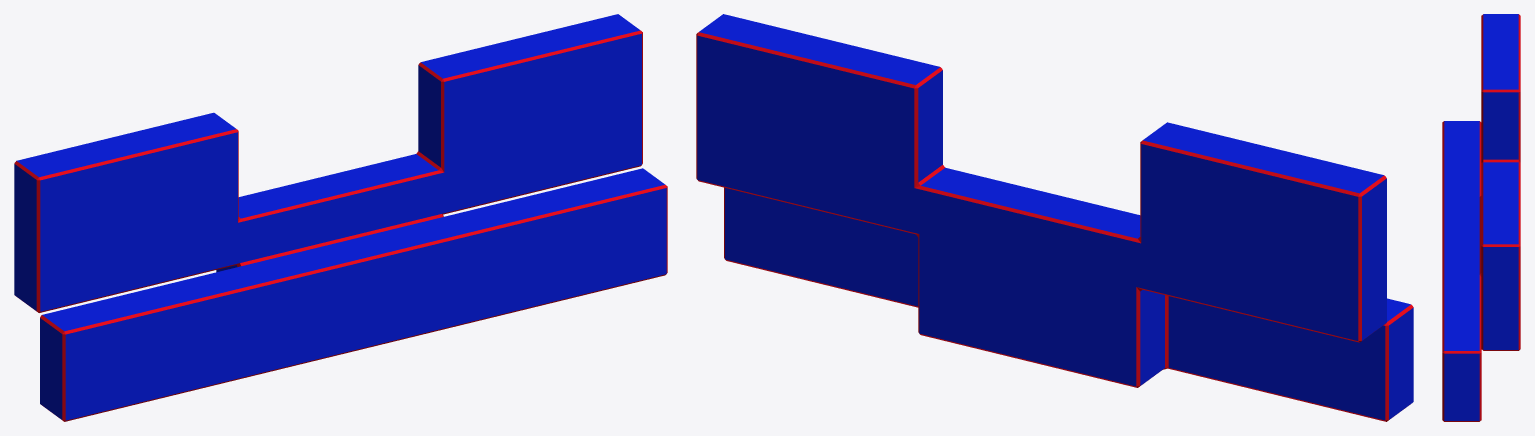
Rendered from L5_Square_Wall.fbx.
3 views of the same model, side by side, from view 1: azimuth 30°, elevation 25°; view 2: azimuth 150°, elevation 25°; view 3: azimuth 270°, elevation 25° (orthographic). The views are drawn at different scales.
Visible parts, largest first — view 1: L5_Square_Wall; view 2: L5_Square_Wall; view 3: L5_Square_Wall.
Boxes of the visible parts, box(x1,y1,x2,y2) form: L5_Square_Wall: box(14, 14, 667, 421); L5_Square_Wall: box(696, 14, 1413, 421); L5_Square_Wall: box(1442, 14, 1520, 421).
Bounding box in the file's own units: 1400 × 500 × 200.
